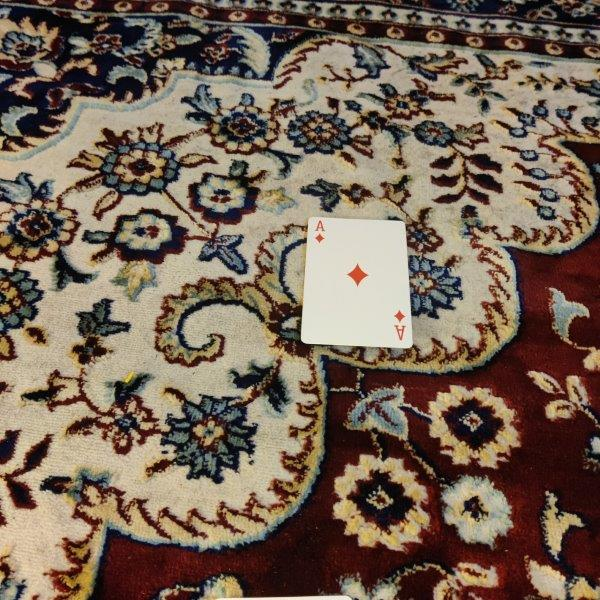Ace of Diamonds: (301, 217, 414, 349)
